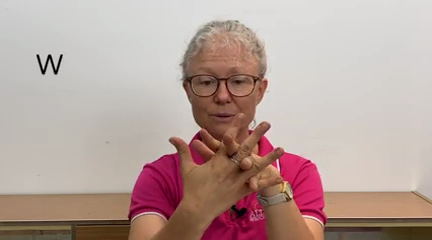W: (161, 104, 304, 215)
